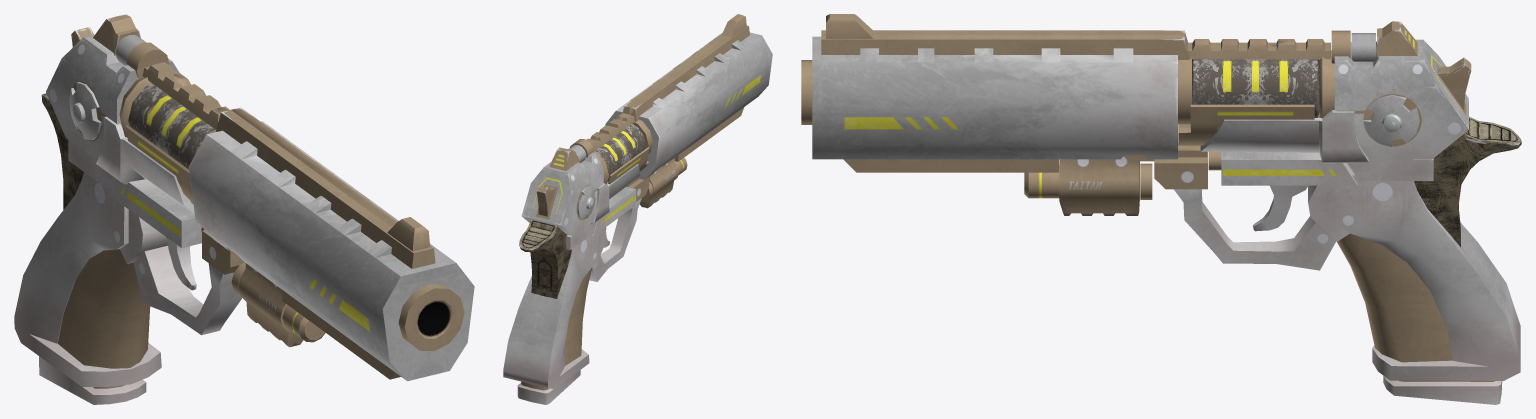
Rendered from ml_wuqi.FBX.
3 views of the same model, side by side, from view 1: azimuth 30°, elevation 25°; view 2: azimuth 150°, elevation 25°; view 3: azimuth 270°, elevation 25° (orthographic). The views are drawn at different scales.
Parts seen in each view (by area): view 1: Box002; view 2: Box002; view 3: Box002.
Part boxes in pixels (left/top/right/bottom): Box002: left=14, top=14, right=474, bottom=404; Box002: left=503, top=14, right=772, bottom=404; Box002: left=801, top=14, right=1521, bottom=404.
Size of the model in its own units: 1.57 by 6.42 by 11.11.
